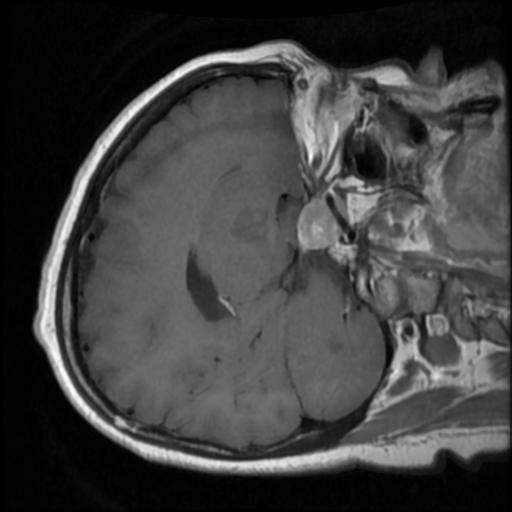pituitary tumour: (297, 198, 354, 263)
